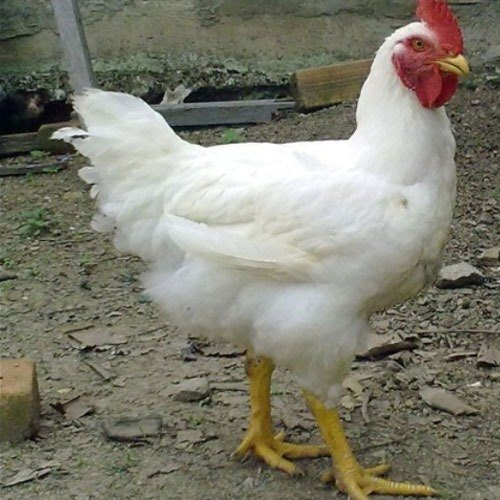Healthy: (347, 0, 487, 150)
